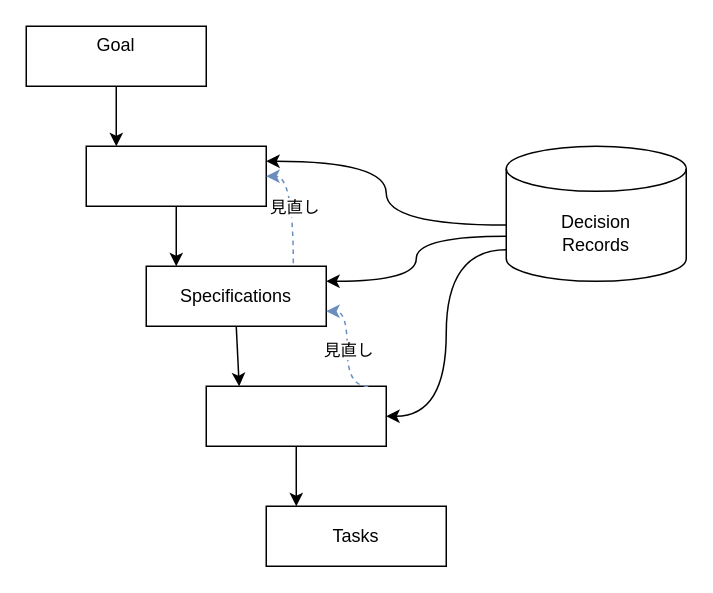
Image size: 713x593. Some labels were removed from this diagram. Each missing label, with the centre of its shape:
Implementations: point (295, 415)
Requirements: point (175, 175)
